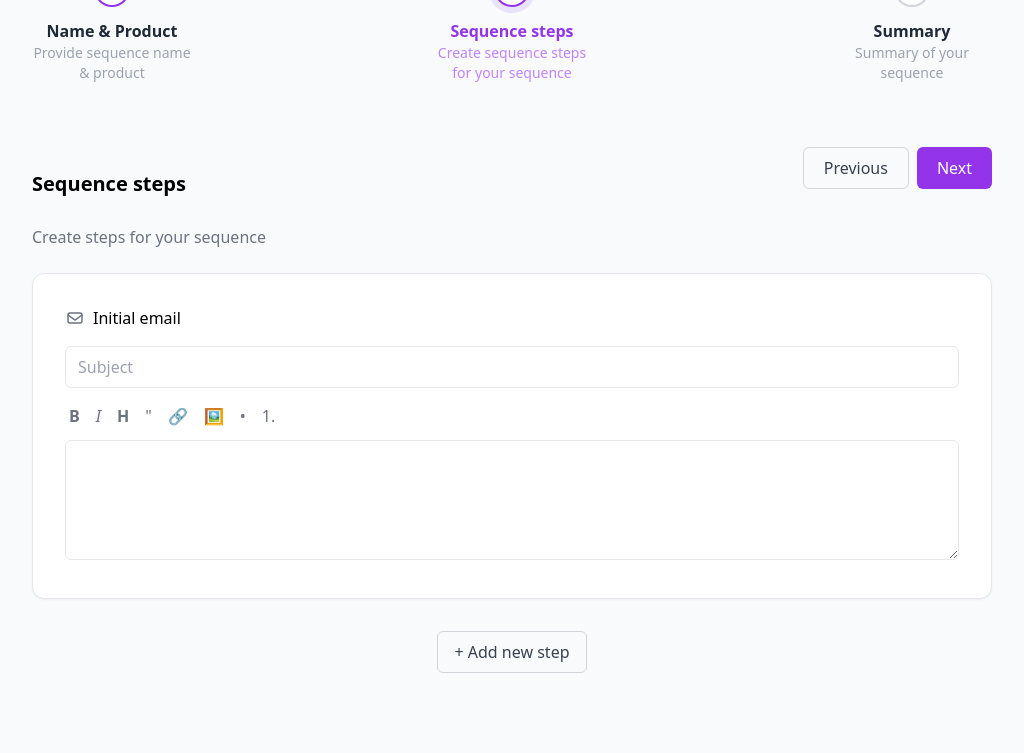
it: SequenceStepsPage › adds a new step
(page scrolled)
Click the button "+ Add new step": {"x": 512, "y": 652} [438, 631, 586, 673]
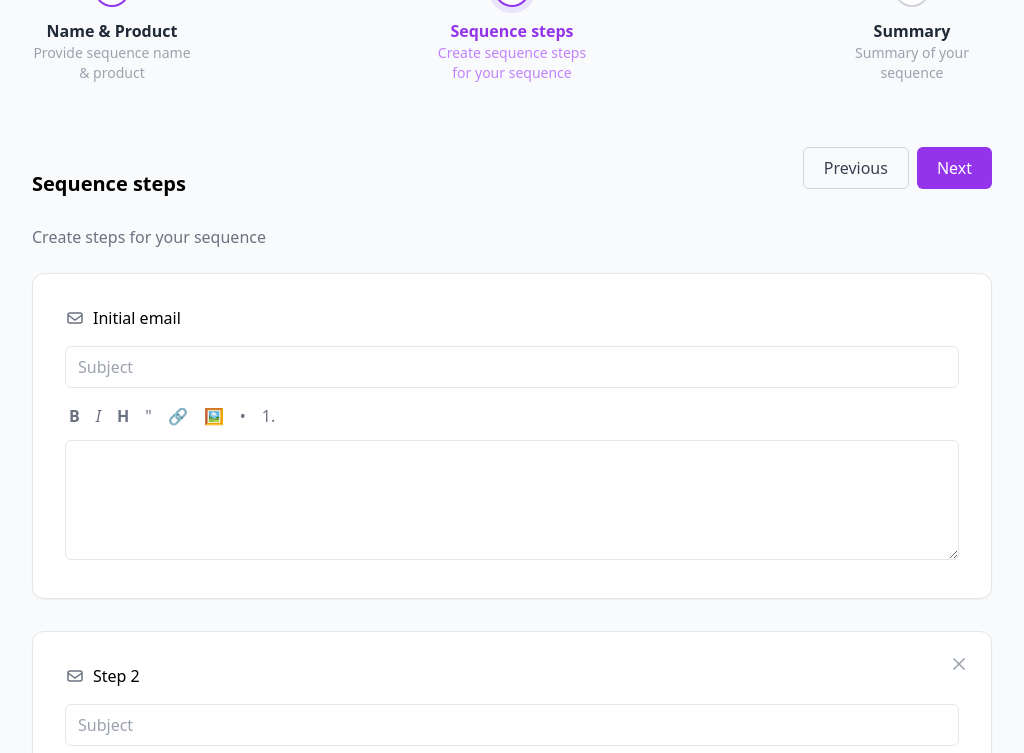
Expected: the text "Step 2" is shown, [93, 664, 140, 688]
